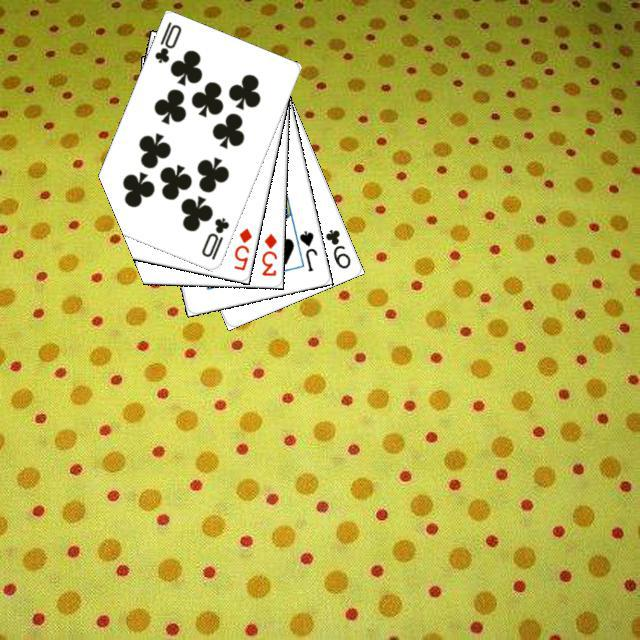10c: (196, 213, 231, 261), (150, 17, 183, 65)
3d: (257, 229, 279, 278)
5d: (229, 223, 254, 272)
9c: (320, 224, 352, 270)
Js: (294, 226, 319, 273)
